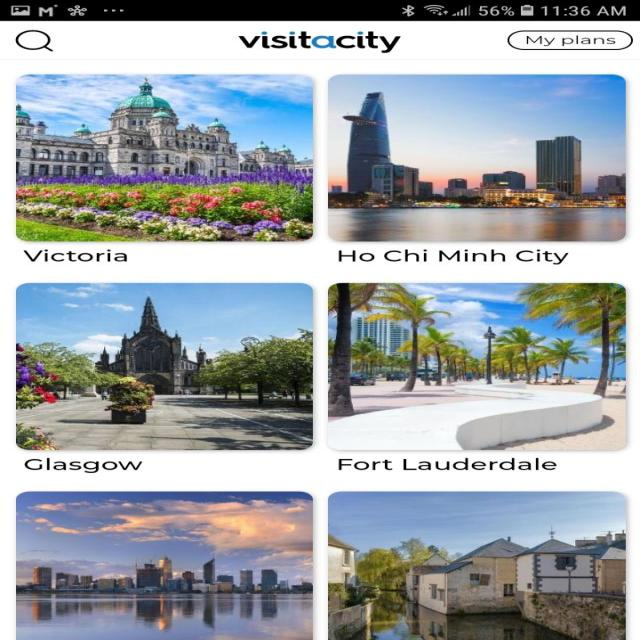Icon: (15, 29, 54, 52)
Image: (327, 282, 626, 450), (15, 282, 313, 450), (327, 74, 625, 242), (16, 74, 313, 242), (16, 490, 313, 640), (327, 491, 625, 639), (237, 31, 401, 53)
Text: (338, 249, 569, 264), (338, 457, 556, 470), (24, 457, 142, 473), (23, 249, 128, 262)
TextButton: (507, 30, 633, 50)
